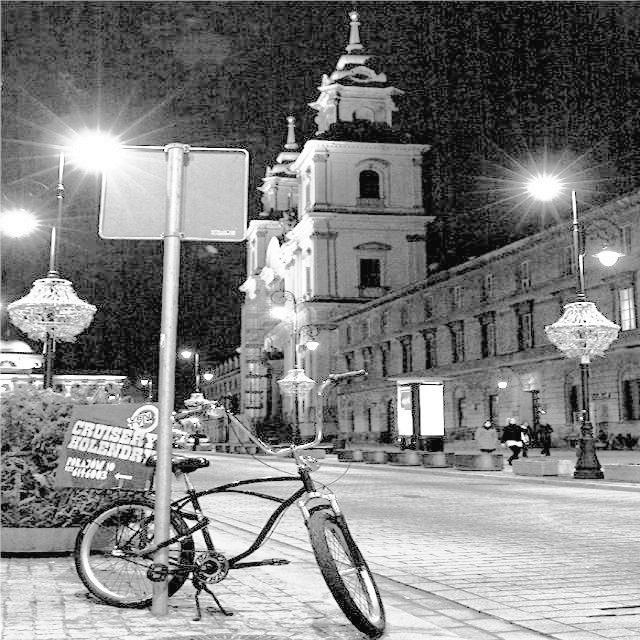Bicycle: (48, 367, 392, 640)
